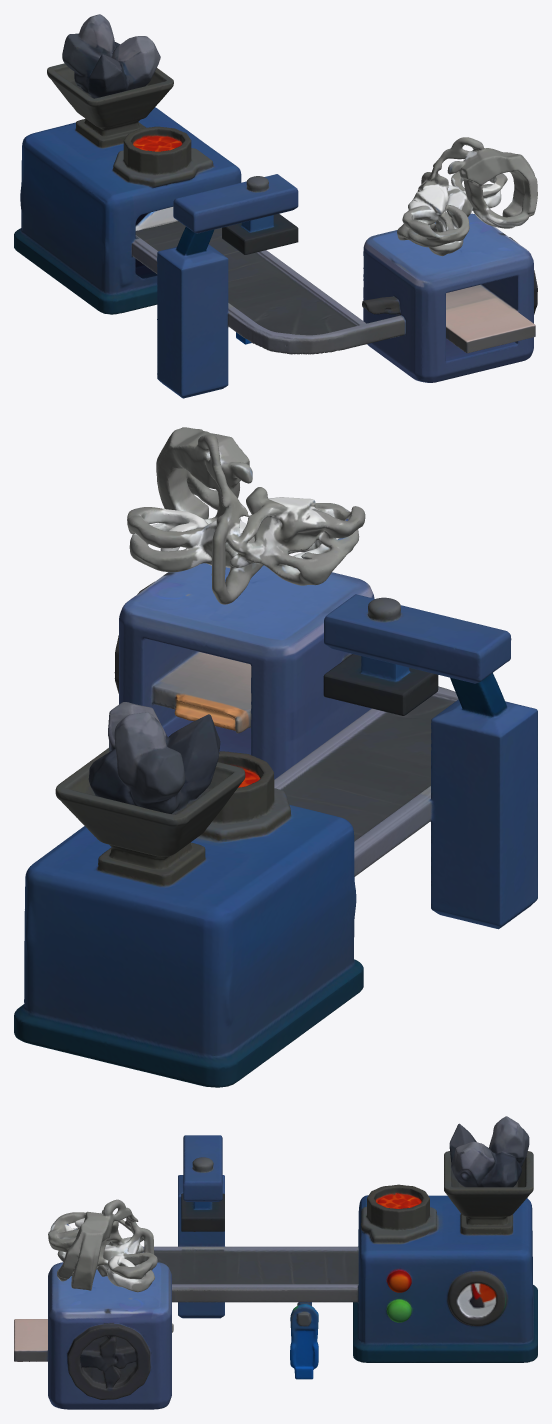
Rendered from tripo_convert_fc0a347f-a328-4a12-bac0-2814d7292399.fbx.
The picture shows the model from 3 angles, top to bottom: view 1: azimuth 30°, elevation 25°; view 2: azimuth 150°, elevation 25°; view 3: azimuth 270°, elevation 25°; orthographic projection. The views are drawn at different scales.
Visible parts, largest first — view 1: tripo_node_fc0a347f; view 2: tripo_node_fc0a347f; view 3: tripo_node_fc0a347f.
Boxes of the visible parts, x1,y1,x2,y2 form: tripo_node_fc0a347f: (14, 14, 537, 398); tripo_node_fc0a347f: (14, 427, 537, 1087); tripo_node_fc0a347f: (14, 1116, 537, 1409).
Size of the model in its own units: 0.6245 by 0.5065 by 0.9999.
